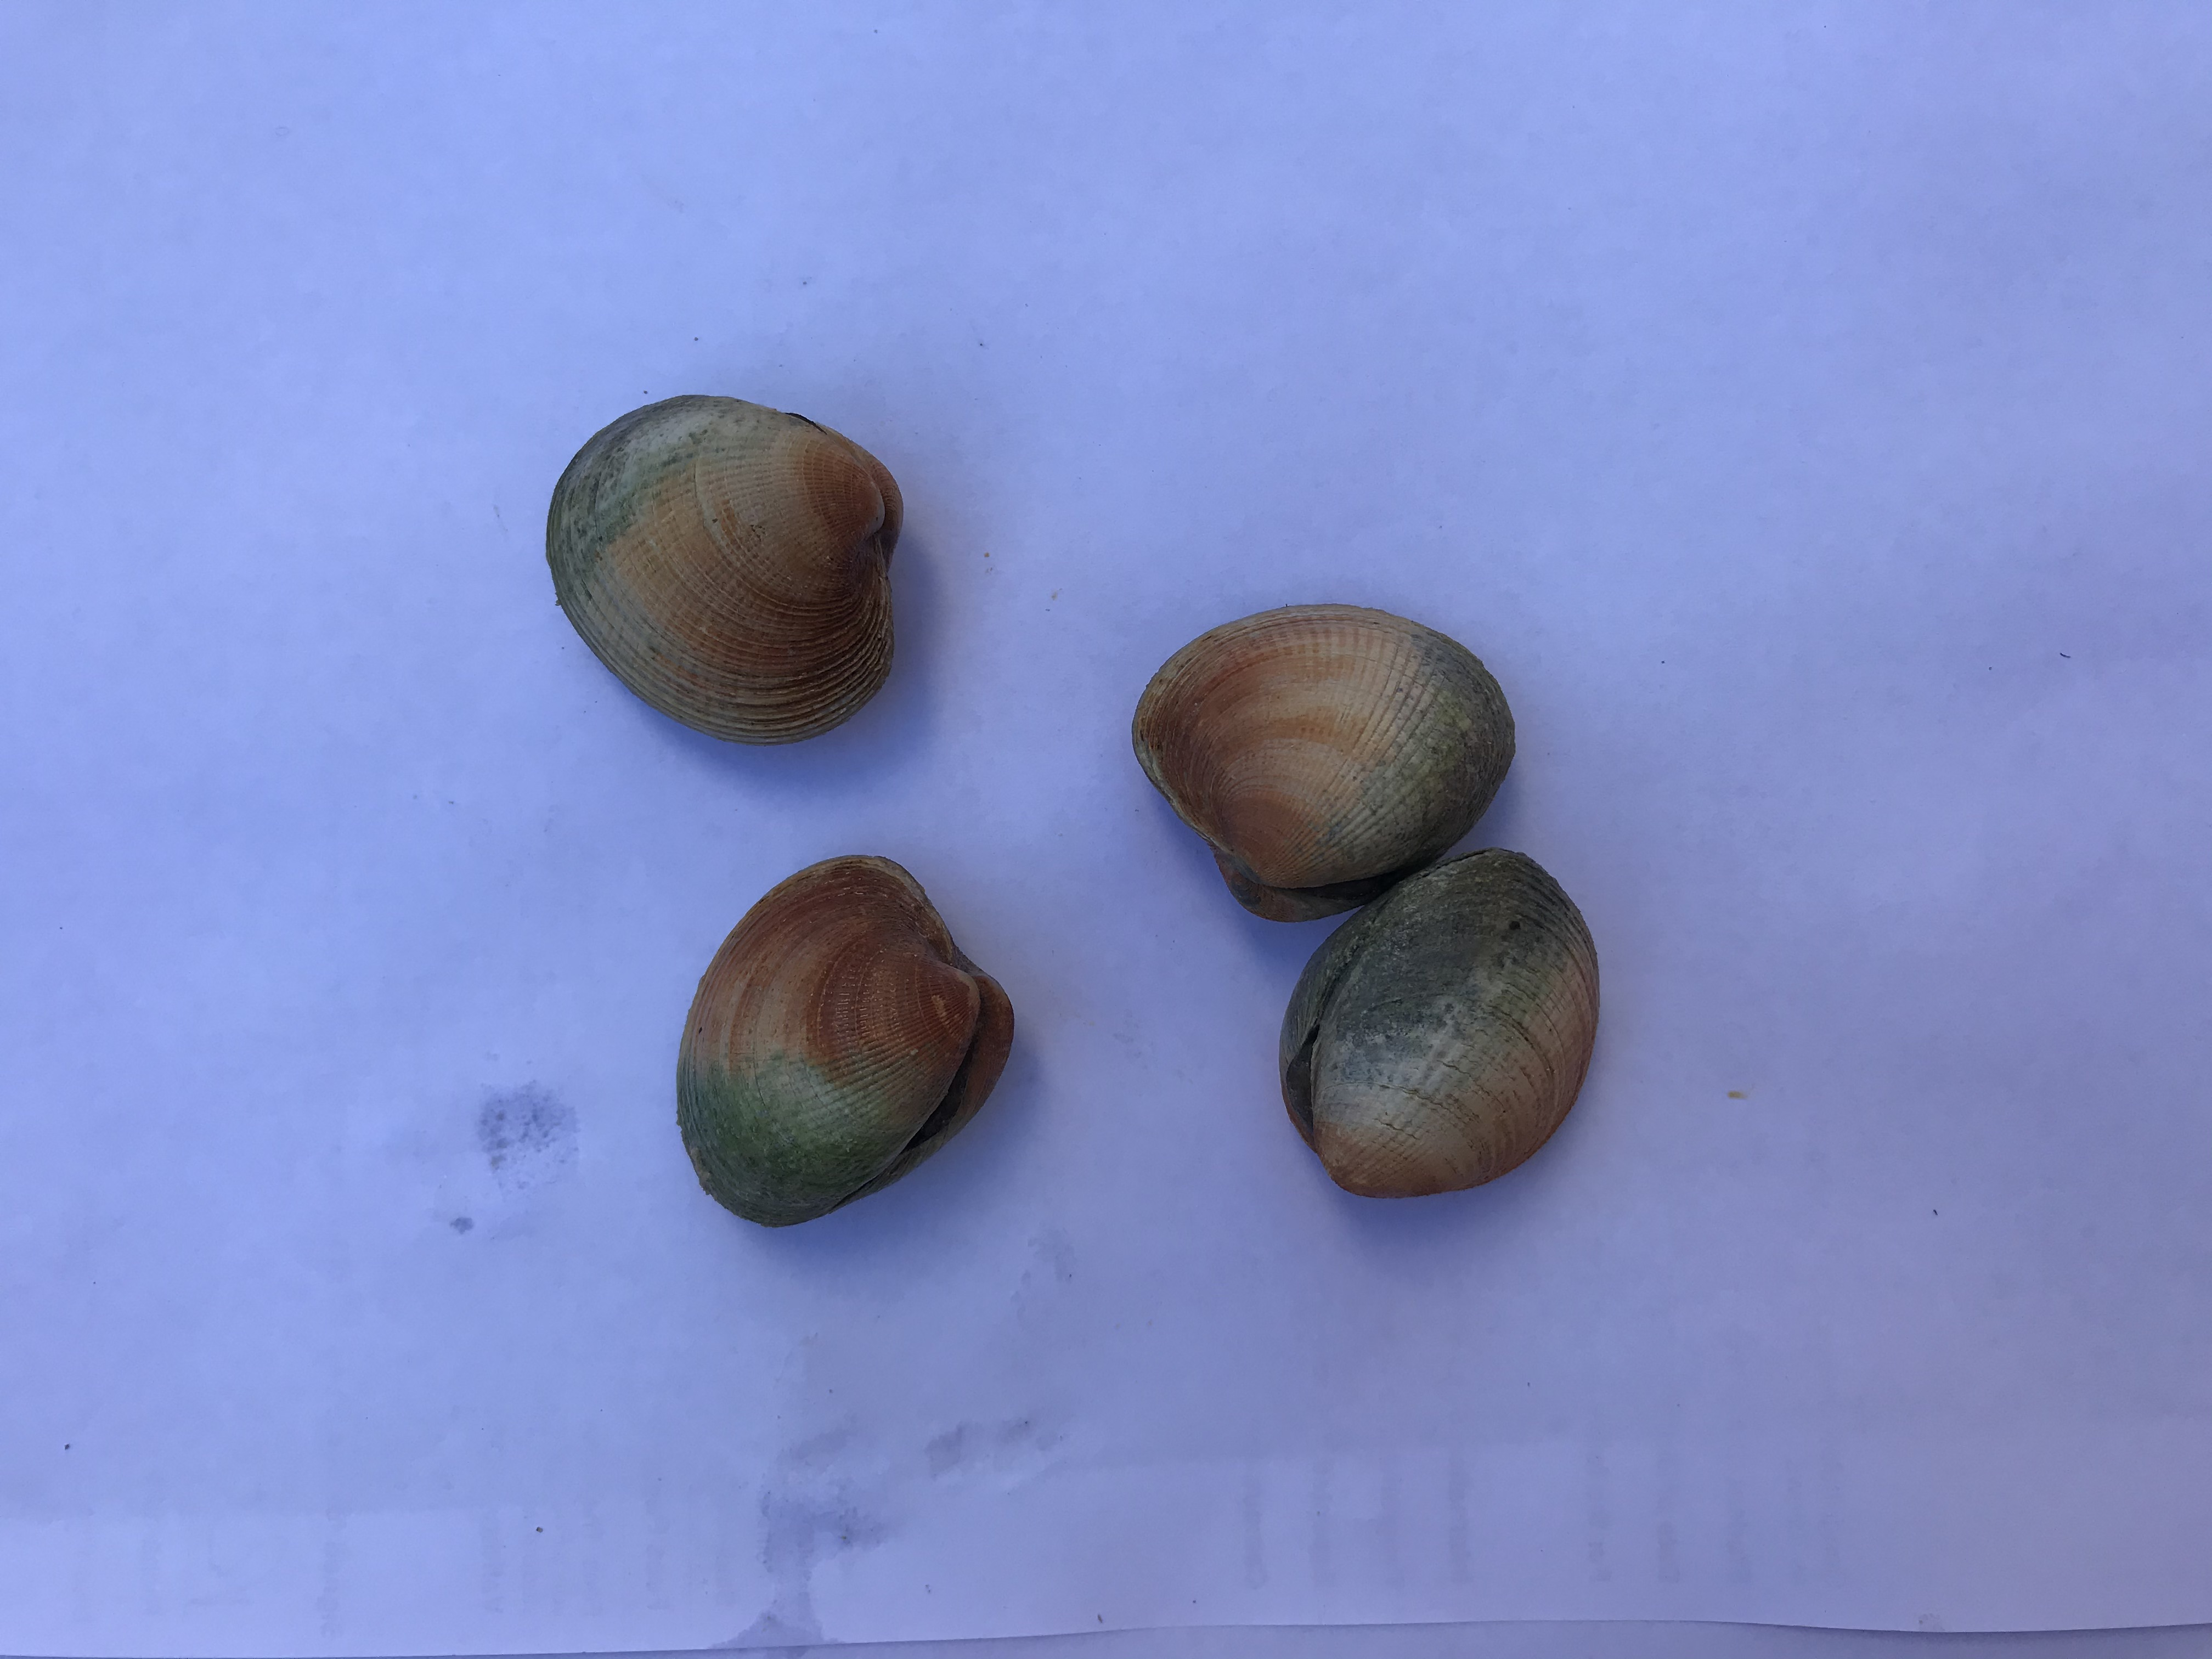cockle: (538, 390, 907, 751), (674, 850, 1014, 1230), (1123, 601, 1515, 924), (1273, 847, 1602, 1208)
